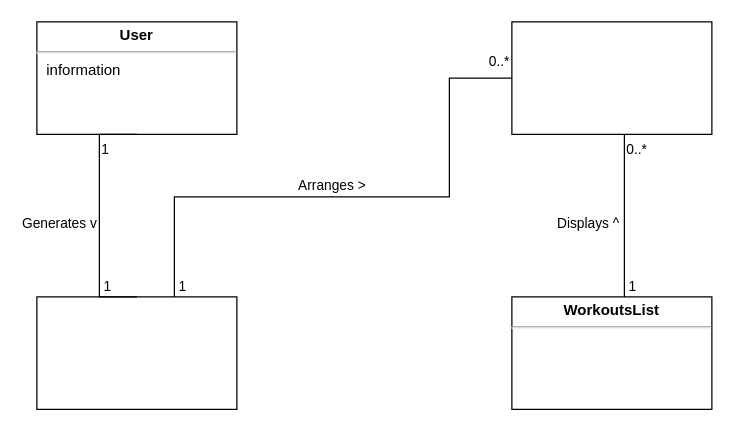
Some shapes in this 734 by 431 pixel diagram are drawn without their labels. Each missing label, with the box of its shape:
Session goal time: (36, 296, 237, 409)
Workout name description muscleGroup favorite: (511, 21, 712, 134)
